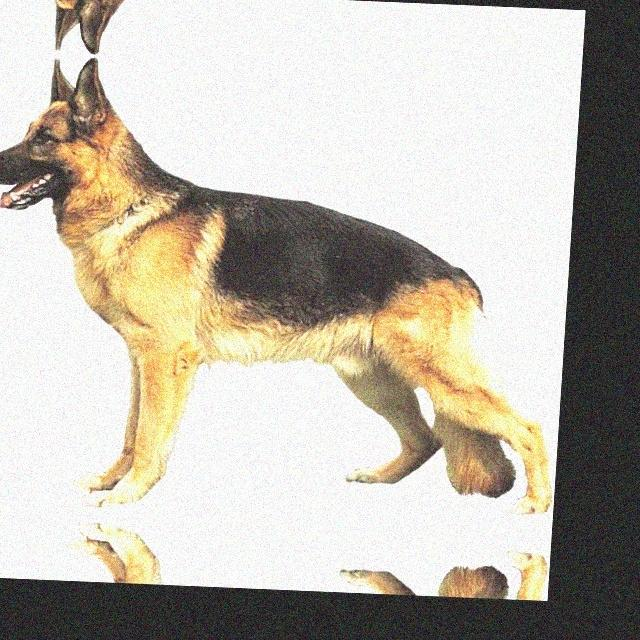dog: (0, 49, 581, 534), (0, 508, 552, 601), (0, 0, 586, 76)
